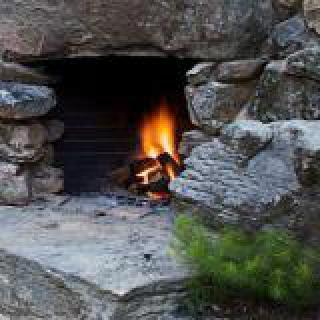fire: (124, 88, 198, 194)
